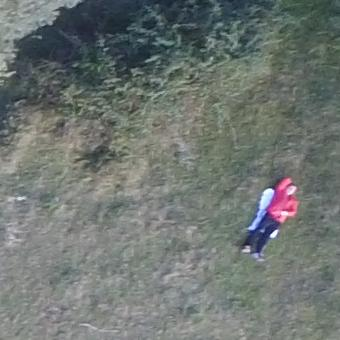human: (240, 178, 302, 260)
